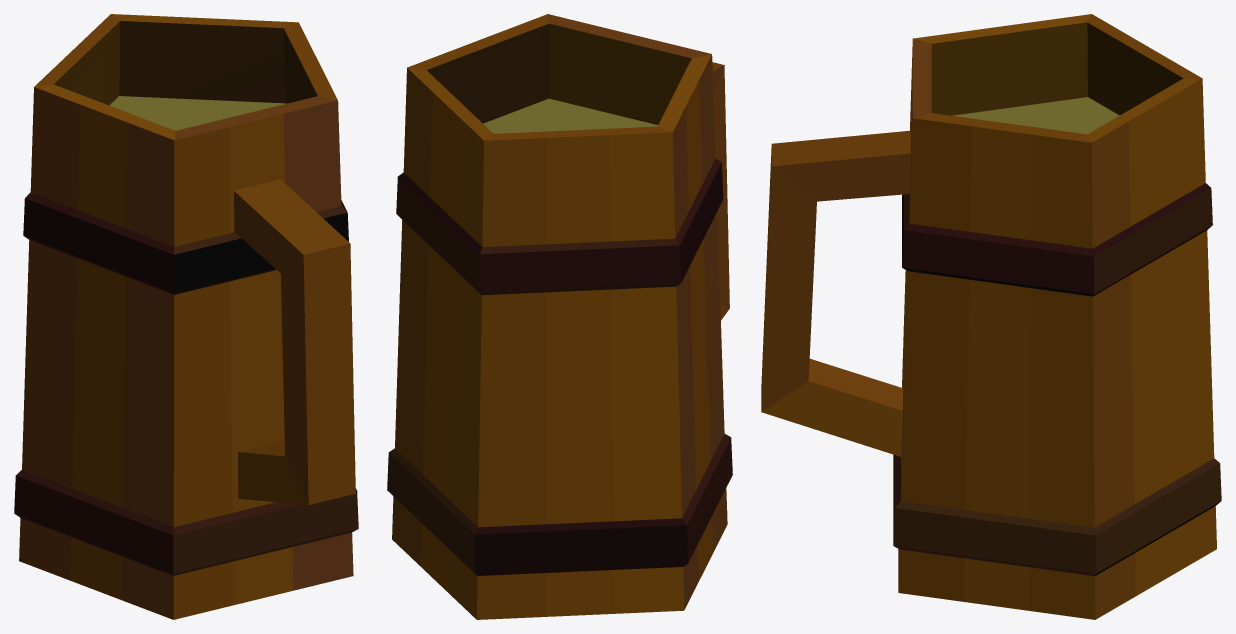
File: WoodenTankardFullMead.glb
3 views of the same model, side by side, from view 1: azimuth 30°, elevation 25°; view 2: azimuth 150°, elevation 25°; view 3: azimuth 270°, elevation 25° (orthographic).
Visible parts, largest first — view 1: WoodenTankardFullMead; view 2: WoodenTankardFullMead; view 3: WoodenTankardFullMead.
Boxes of the visible parts, box(x1,y1,x2,y2) form: WoodenTankardFullMead: box(14, 14, 358, 619); WoodenTankardFullMead: box(387, 14, 732, 619); WoodenTankardFullMead: box(761, 14, 1221, 619).
Size of the model in its own units: 0.1695 by 0.255 by 0.226.
